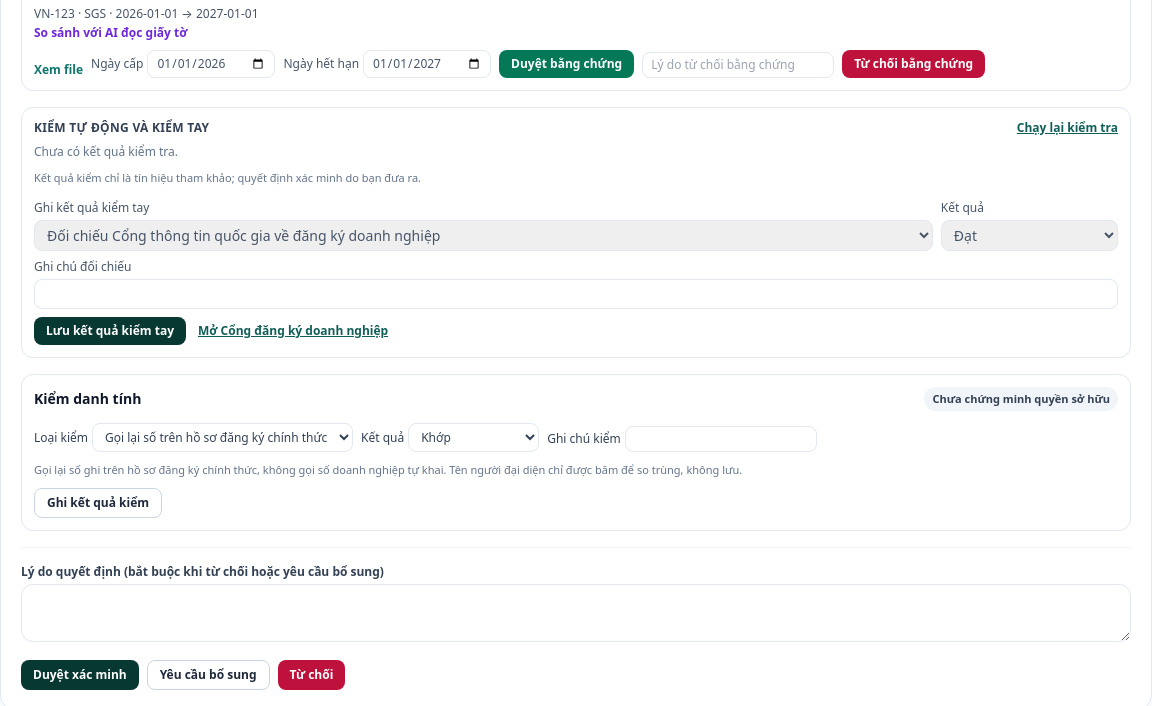
Test: Hàng đợi xác minh (I1, I2) › Yêu cầu bổ sung cần lý do: bỏ trống thì báo lỗi và không gọi server
(page scrolled)
Click the button "Yêu cầu bổ sung". click: x=208, y=675
box: top-left (147, 660), bottom-right (270, 690)
(page scrolled)
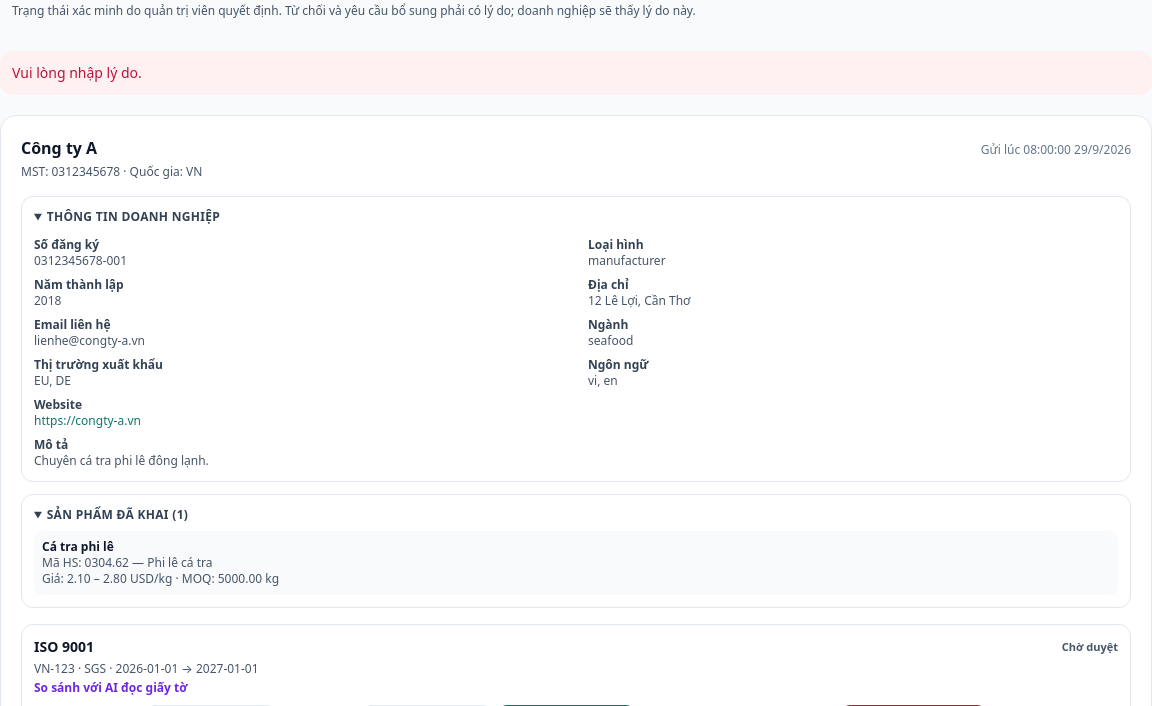
Now the message shows "Vui lòng nhập lý do", box top-left (12, 63), bottom-right (142, 82)
